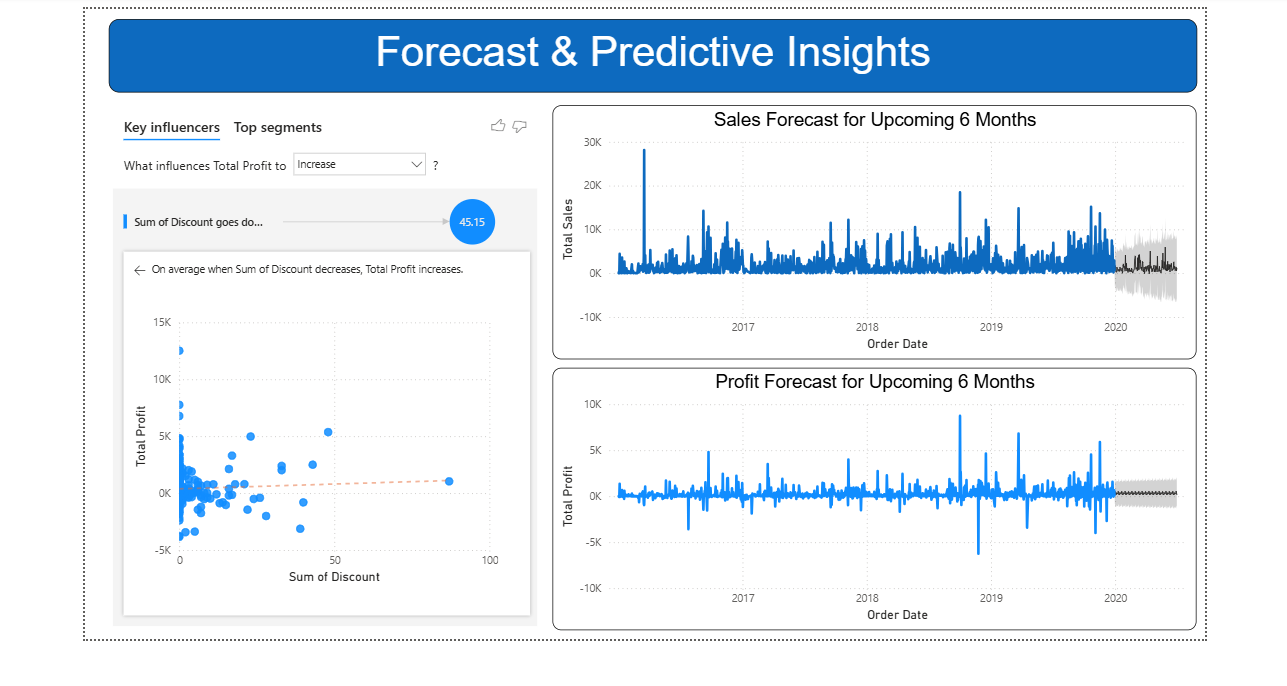

What the dashboard file says about the page in this screenshot:
{"tool":"powerbi","page":{"name":"Page 5","canvas":[1280,720],"ordinal":4},"visuals":[{"type":"textbox","title":"Sales Data Profile & Insights","box":[27.1,11.4,1244.3,84.3],"z":0},{"type":"lineChart","title":"Sales Forecast for Upcoming 6 Months","fields":{"Category":["Sales.Order Date"],"Y":["All Measures.Total Sales"]},"box":[534.3,110,735.7,290],"z":1000},{"type":"lineChart","title":"Profit Forecast for Upcoming 6 Months","fields":{"Category":["Sales.Order Date"],"Y":["All Measures.Total Profit"]},"box":[534.3,410,735.7,300],"z":2000},{"type":"keyDriversVisual","fields":{"Target":["All Measures.Total Profit"],"ExplainBy":["Sum(Sales.Discount)","Sales.Ship Mode","Sales.Segment","Sales.Region","Sales.Category","Sales.Sub-Category"]},"box":[27.1,110,494.3,600],"z":3000}]}

Visuals, with their boxes on the page's 1280x720 design canvas (x1, y1, x2, y2). These are canvas units, not pixel positions in the 1287x686 screenshot, which may show the page scaled, cropped or inside an application window:
"Sales Data Profile & Insights" textbox: detection(27, 11, 1271, 96)
"Sales Forecast for Upcoming 6 Months" lineChart: detection(534, 110, 1270, 400)
"Profit Forecast for Upcoming 6 Months" lineChart: detection(534, 410, 1270, 710)
keyDriversVisual - All Measures.Total Profit x Sum(Sales.Discount): detection(27, 110, 521, 710)
